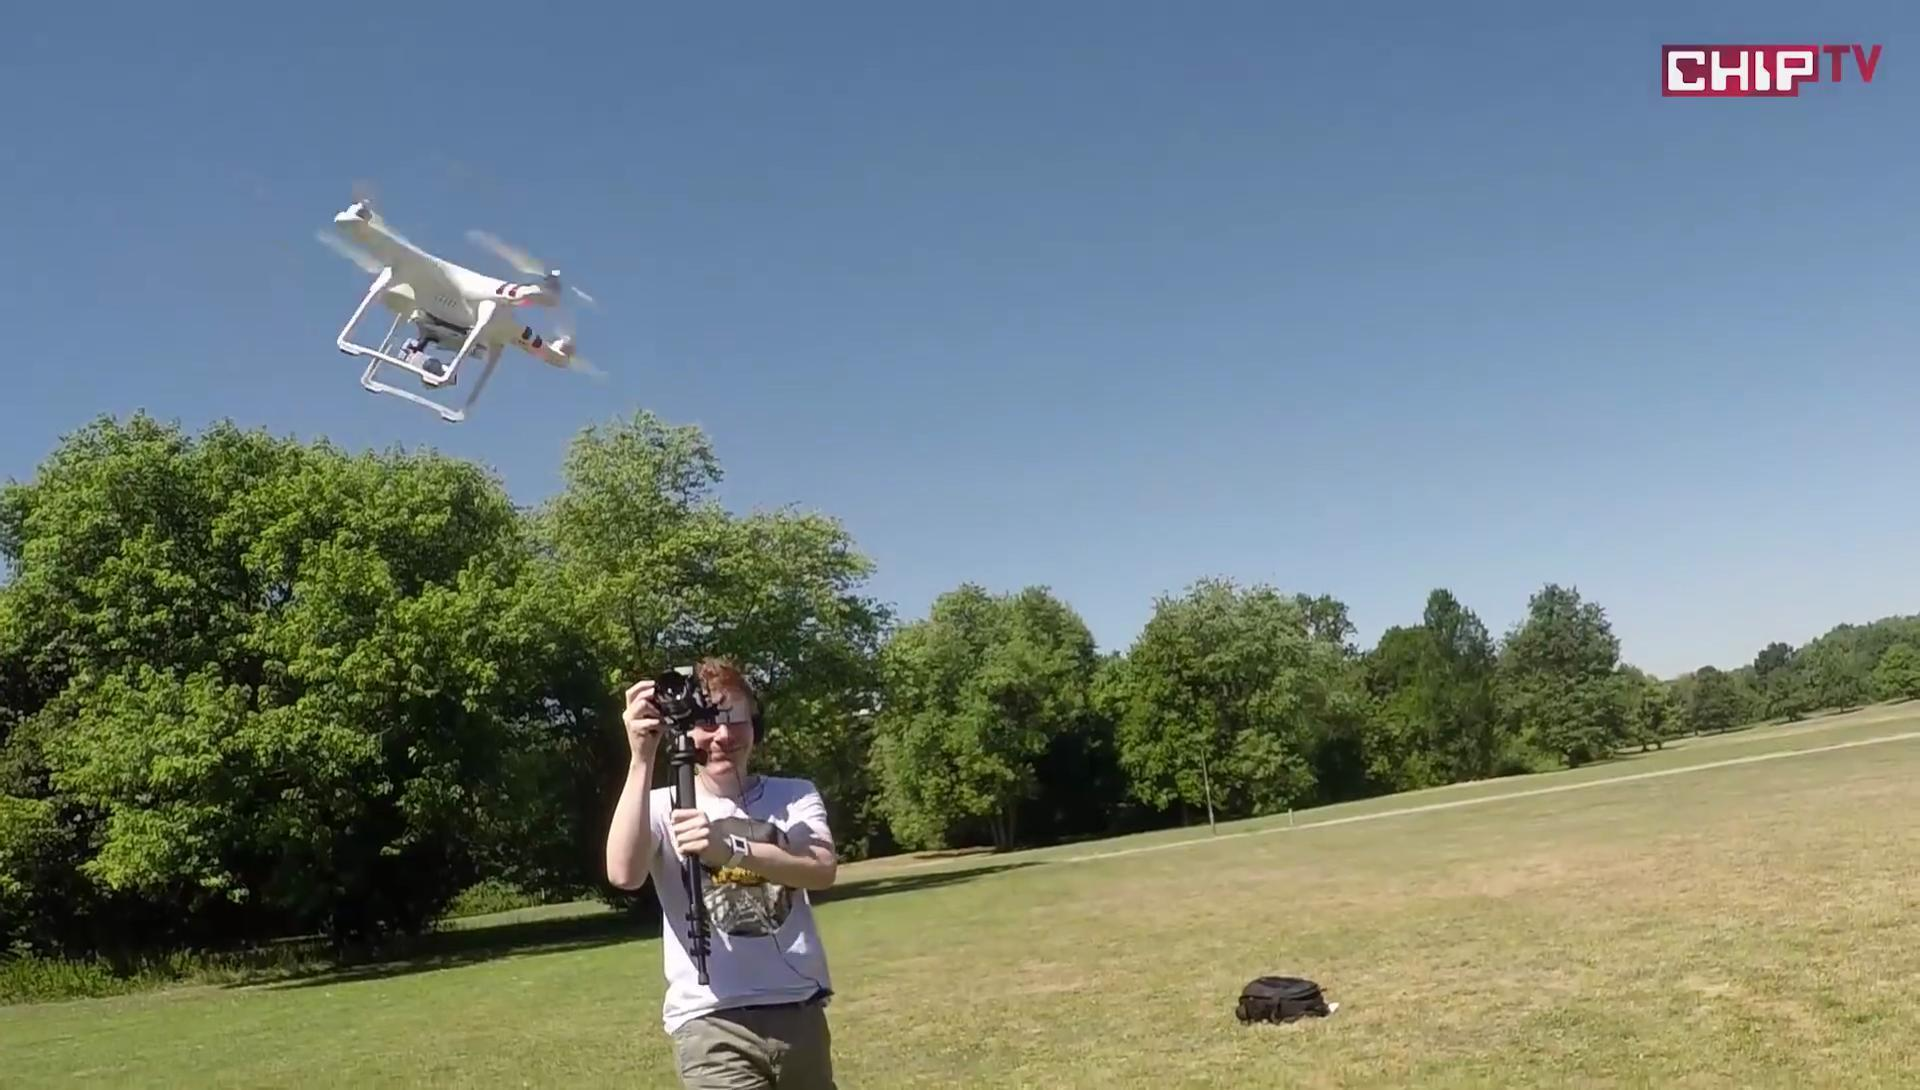drone: (324, 186, 601, 419)
